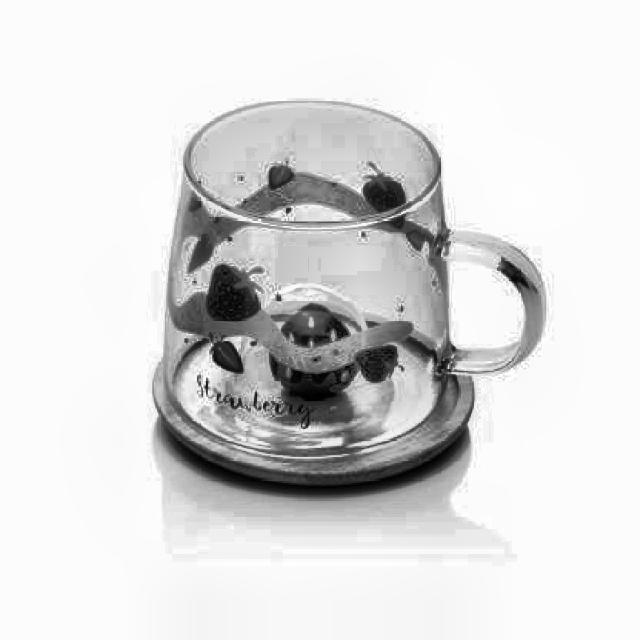Mug: (152, 98, 548, 487)
